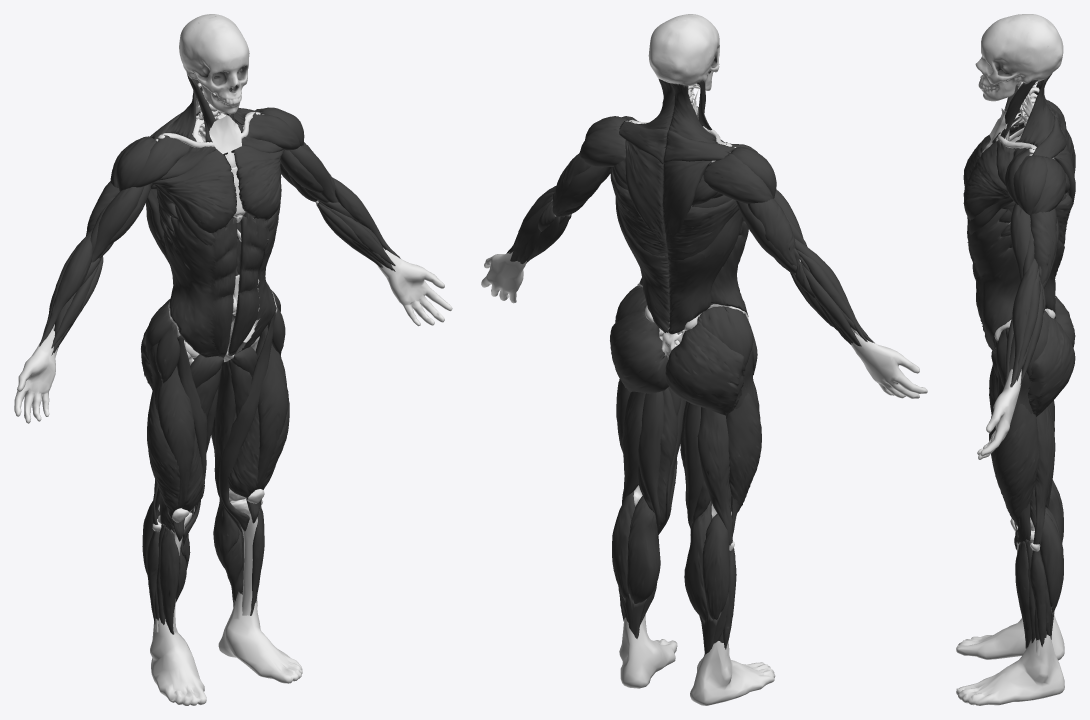
File: corpo-f-2.glb
The picture shows the model from 3 angles, left to right: view 1: azimuth 30°, elevation 25°; view 2: azimuth 150°, elevation 25°; view 3: azimuth 270°, elevation 25°; orthographic projection.
Visible parts, largest first — view 1: pele, deco, peito_medial, obliquos, quad_reto_femoral, osso, adutores, antebraco_flexores, abdomen_supra, quad_vasto_lateral, ombro_frontal, antebraco_braquiorradial (+14 smaller); view 2: pele, gluteo_maximo, panturrilha_gastro, isquio_semitendineo, dorsal_inferior, trapezio_inferior, isquio_biceps_femoral, dorsal_superior, osso, antebraco_extensores, ombro_posterior, quad_vasto_lateral (+12 smaller); view 3: pele, osso, obliquos, deco, quad_vasto_lateral, gluteo_maximo, peito_medial, panturrilha_gastro, isquio_biceps_femoral, ombro_lateral, triceps_lateral, antebraco_braquiorradial (+21 smaller).
Boxes of the visible parts, <box> form: pele: <box>14,115,452,705</box>; deco: <box>147,74,281,634</box>; peito_medial: <box>151,145,284,233</box>; obliquos: <box>163,205,278,357</box>; quad_reto_femoral: <box>157,325,287,541</box>; osso: <box>179,14,249,114</box>; adutores: <box>183,342,257,545</box>; antebraco_flexores: <box>51,200,395,355</box>; abdomen_supra: <box>212,213,267,297</box>; quad_vasto_lateral: <box>147,387,289,518</box>; ombro_frontal: <box>132,112,299,187</box>; antebraco_braquiorradial: <box>39,177,400,346</box>; pele: <box>481,105,927,705</box>; gluteo_maximo: <box>610,305,745,415</box>; panturrilha_gastro: <box>612,491,729,620</box>; isquio_semitendineo: <box>637,388,710,530</box>; dorsal_inferior: <box>621,228,733,334</box>; trapezio_inferior: <box>625,140,711,249</box>; isquio_biceps_femoral: <box>622,391,732,545</box>; dorsal_superior: <box>610,167,743,257</box>; osso: <box>648,14,719,90</box>; antebraco_extensores: <box>509,191,867,346</box>; ombro_posterior: <box>579,126,773,203</box>; quad_vasto_lateral: <box>616,378,761,512</box>; pele: <box>956,108,1064,705</box>; osso: <box>975,14,1063,101</box>; obliquos: <box>967,208,1020,353</box>; deco: <box>991,79,1054,648</box>; quad_vasto_lateral: <box>994,403,1039,541</box>; gluteo_maximo: <box>1028,296,1075,416</box>; peito_medial: <box>963,129,1017,220</box>; panturrilha_gastro: <box>1040,480,1063,612</box>; isquio_biceps_femoral: <box>1030,400,1055,545</box>; ombro_lateral: <box>1013,99,1047,215</box>; triceps_lateral: <box>1030,208,1057,284</box>; antebraco_braquiorradial: <box>1010,258,1038,387</box>.
Size of the model in its own units: 1.15 by 1.65 by 0.2716.
Materials: 1 (1 with a texture image).
